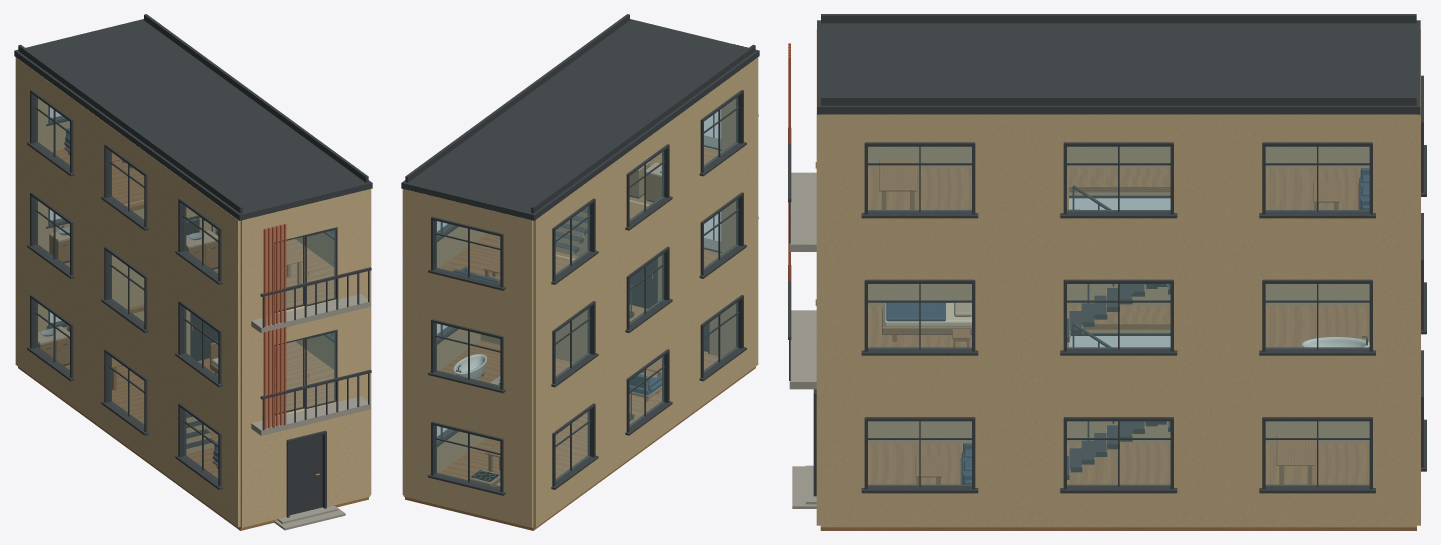
The model's file is bld-tube-da8fe9d94697.glb.
3 renders of one model, left to right at view 1: azimuth 30°, elevation 25°; view 2: azimuth 150°, elevation 25°; view 3: azimuth 270°, elevation 25°, orthographic. The views are drawn at different scales.
Parts seen in each view (by area): view 1: surface_plaster, surface_graphite, surface_Optical_smoke, surface_oak, surface_terracotta, surface_stone, surface_terrazzo; view 2: surface_plaster, surface_graphite, surface_Optical_smoke, surface_oak, surface_denim, surface_porcelain; view 3: surface_plaster, surface_graphite, surface_Optical_smoke, surface_oak, surface_stone, surface_denim, surface_ivory.
Part boxes in pixels (x1,y1,x2,y2): surface_plaster: [15, 57, 371, 527]; surface_graphite: [14, 14, 372, 517]; surface_Optical_smoke: [36, 97, 335, 480]; surface_oak: [18, 128, 368, 530]; surface_terracotta: [263, 223, 286, 429]; surface_stone: [251, 294, 370, 530]; surface_terrazzo: [38, 228, 218, 344]; surface_plaster: [402, 57, 758, 527]; surface_graphite: [401, 14, 759, 495]; surface_Optical_smoke: [436, 97, 737, 488]; surface_oak: [405, 147, 755, 530]; surface_denim: [453, 267, 661, 395]; surface_porcelain: [453, 354, 486, 379]; surface_plaster: [816, 29, 1420, 527]; surface_graphite: [788, 14, 1426, 496]; surface_Optical_smoke: [868, 147, 1369, 485]; surface_oak: [820, 160, 1416, 530]; surface_stone: [789, 172, 816, 508]; surface_denim: [886, 168, 1369, 484]; surface_ivory: [884, 303, 971, 326].
Size of the model in its own units: 4.39 by 9.61 by 12.85.
15 materials, 6 textured.
